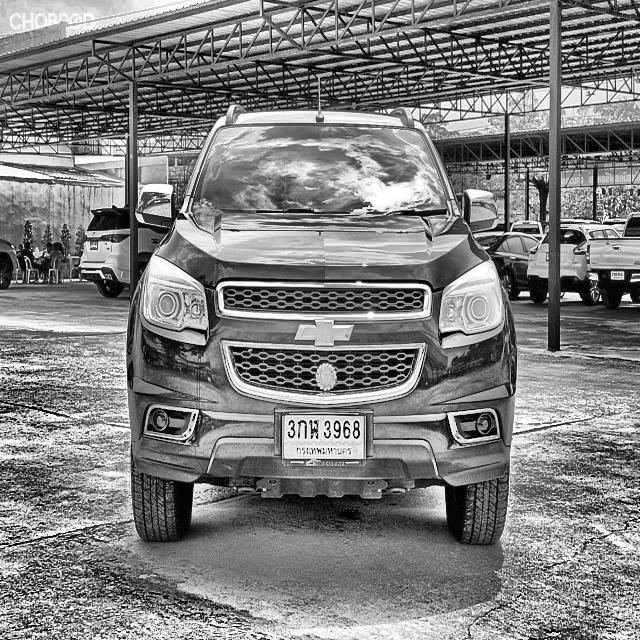license-plate: (274, 409, 372, 466)
